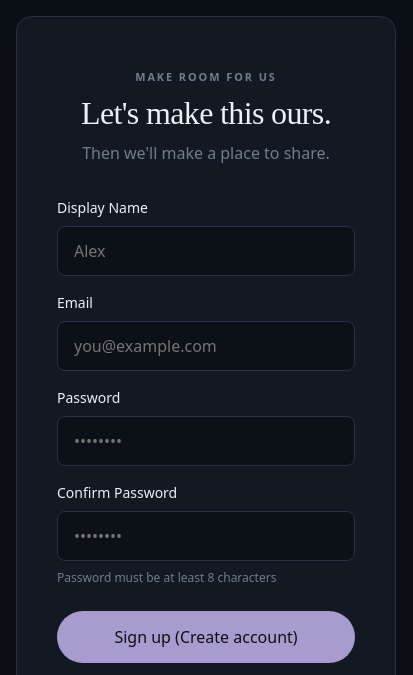
Test case: Authentication Pages › Signup Page › shows error for short password
Type "Test User" into the field labelled "Display Name".
click(206, 251); type("Test User")  # box [57,226,355,276]
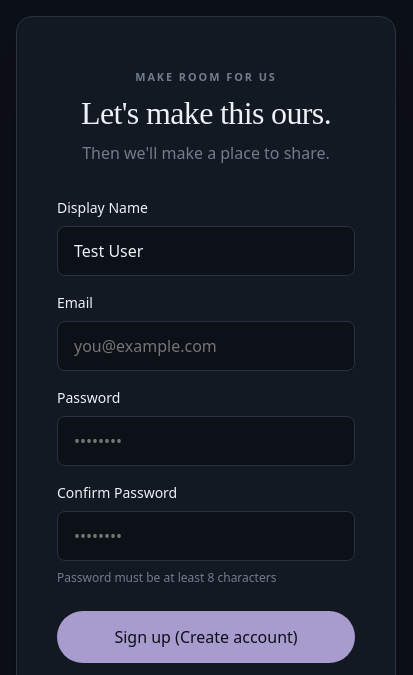
Type "test@example.com" into the field labelled "Email".
click(206, 346); type("test@example.com")  # box [57,321,355,371]
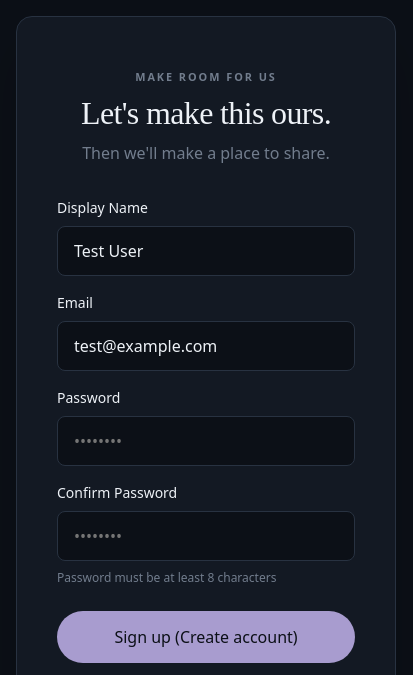
Type "short" into the password field labelled "Password".
click(206, 441); type("short")  # box [57,416,355,466]
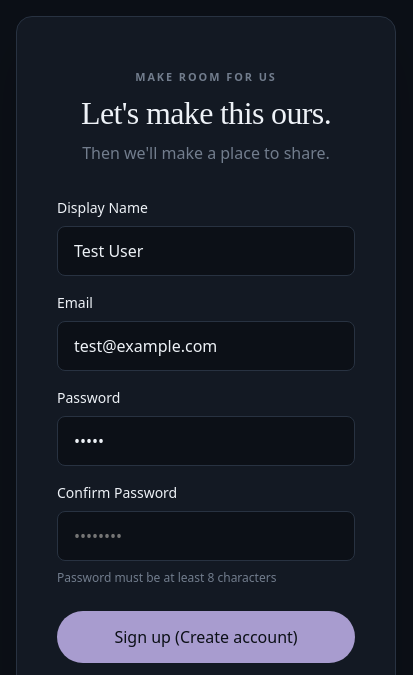
Type "short" into the password field labelled "Confirm Password".
click(206, 536); type("short")  # box [57,511,355,561]
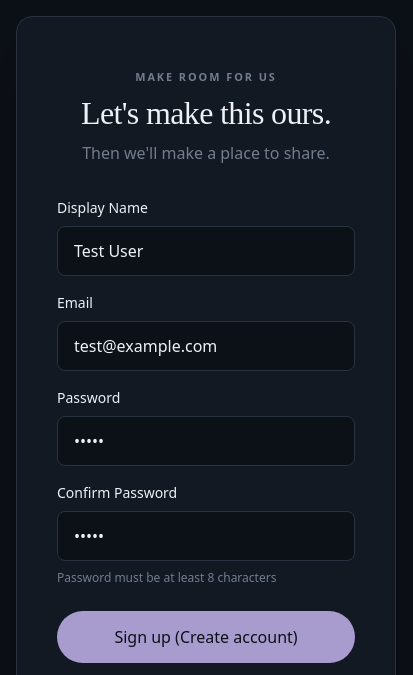
Click the button "Sign up (Create account)".
click(206, 637)  # box [57,611,355,663]
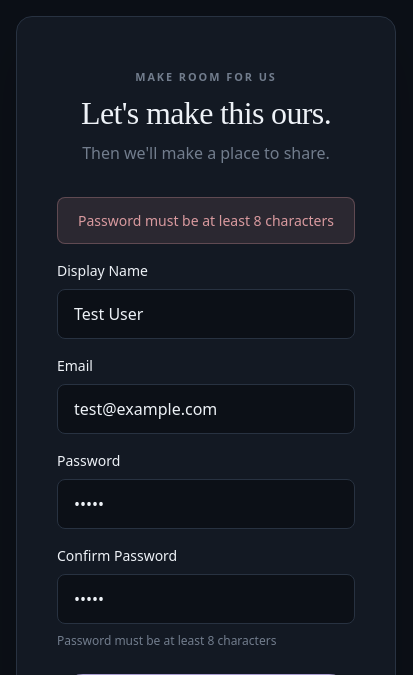
Check: the message shows "at least 8 characters", box [78,211,334,230]
